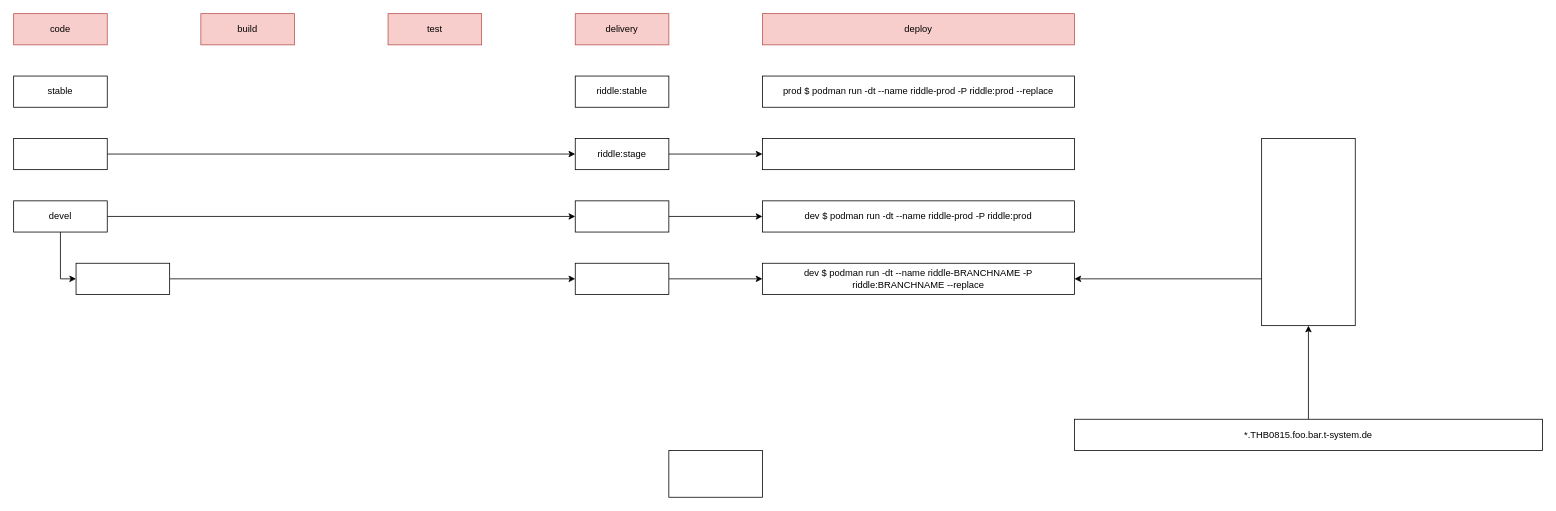
Image size: 1556x511. Some labels were removed from this diagram. Each missing label, with the centre of its shape:
issue: the point at 122,278
podman system reset podman system prune: the point at 715,473
prod $ podman run -dt --name riddle-prod -P riddle:prod: the point at 918,154
riddle:COMMIT: the point at 621,278
riddle:devel: the point at 621,216
stage: the point at 60,154
TRAEFIK: the point at 1308,232
